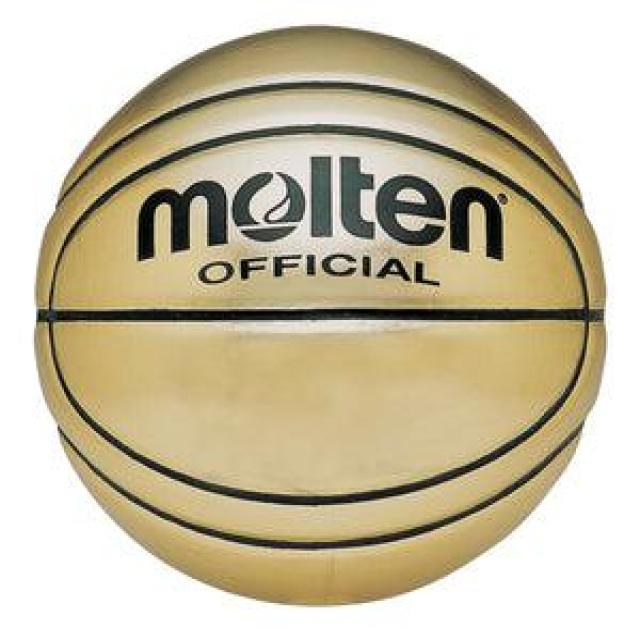ball: (23, 18, 611, 621)
